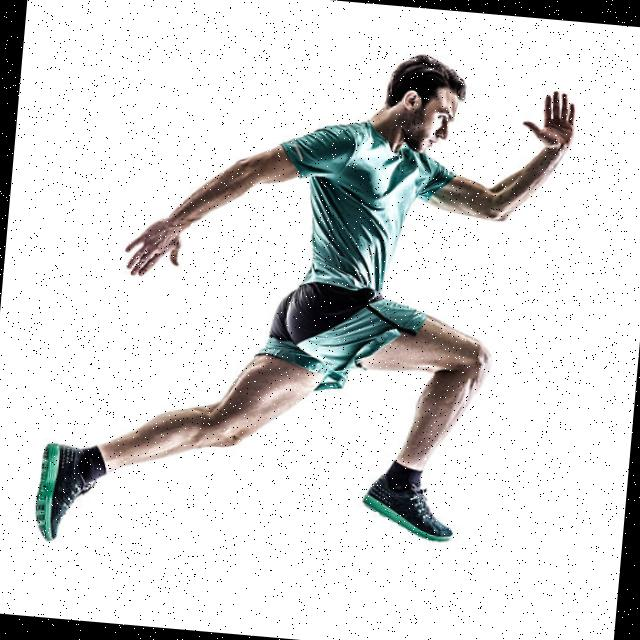Person: (30, 24, 577, 584)
